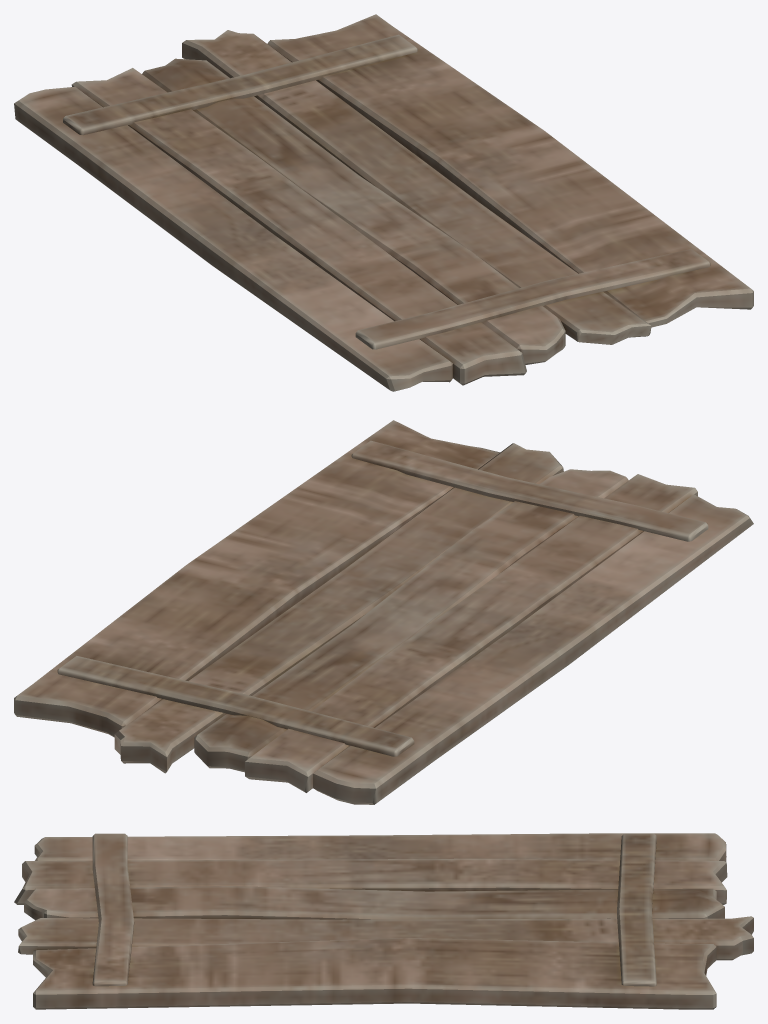
File: SM_box_cap_01.fbx
3 renders of one model, top to bottom at view 1: azimuth 30°, elevation 25°; view 2: azimuth 150°, elevation 25°; view 3: azimuth 270°, elevation 25°, orthographic. The views are drawn at different scales.
Visible parts, largest first — view 1: SM_box_cap_01_LOD0; view 2: SM_box_cap_01_LOD0; view 3: SM_box_cap_01_LOD0.
Part boxes in pixels (box(x1,y1,x2,y2)): SM_box_cap_01_LOD0: box(14, 14, 753, 391); SM_box_cap_01_LOD0: box(14, 420, 753, 804); SM_box_cap_01_LOD0: box(14, 833, 753, 1009).
Bounding box in the file's own units: 76.52 × 150 × 6.32.
Materials: 1 (1 with a texture image).
